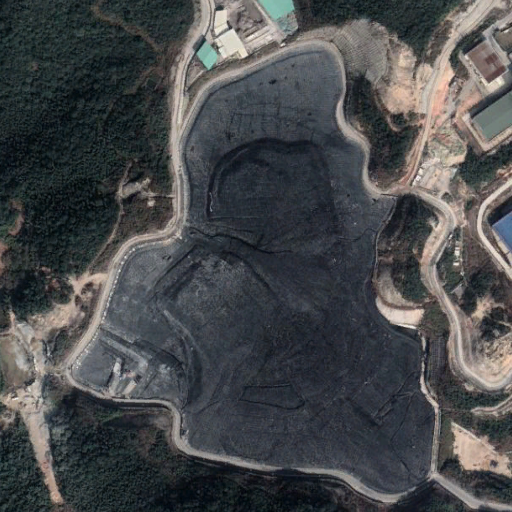lf: (69, 43, 449, 498)
